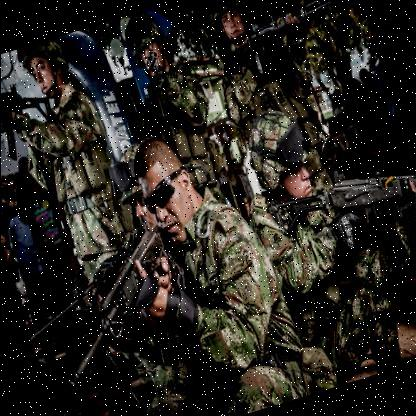rifle: (36, 219, 215, 416), (264, 140, 416, 302), (8, 229, 157, 361), (214, 0, 377, 102), (0, 57, 67, 172), (137, 45, 182, 124)
